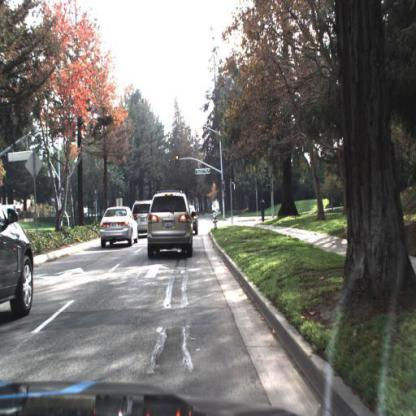car: (145, 191, 197, 260), (99, 205, 139, 250), (132, 199, 154, 235), (189, 203, 201, 231)
pedestrian: (260, 198, 268, 221)
trafficLight-Red: (175, 154, 181, 167)
